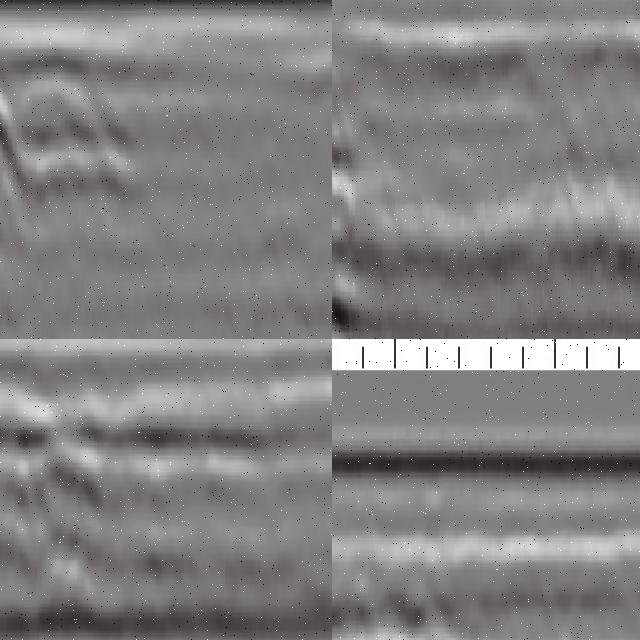crack: (333, 28, 354, 340)
loose: (1, 400, 162, 640), (1, 30, 115, 340)
